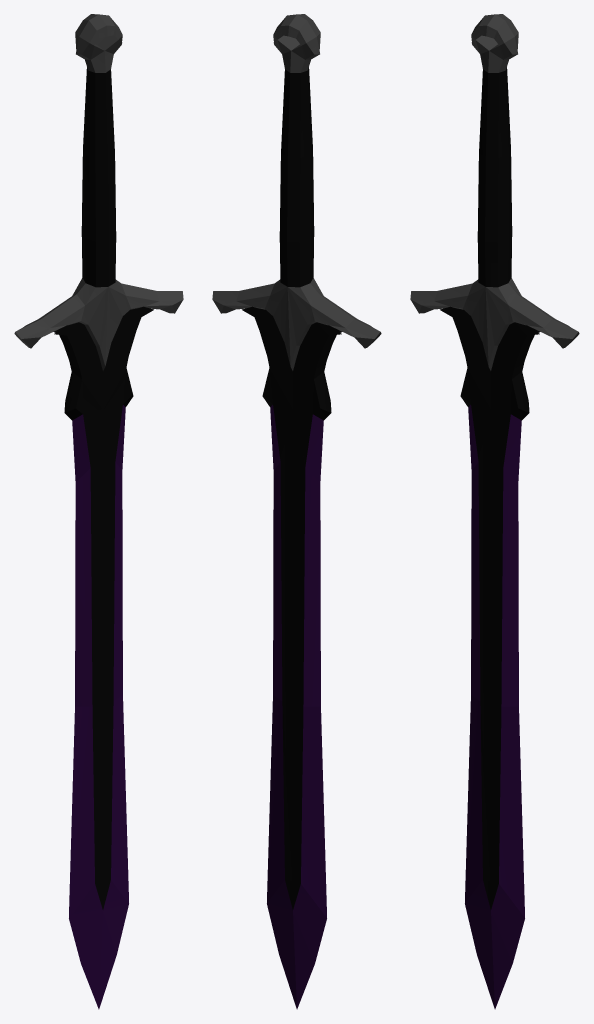
Rendered from knightSword.fbx.
3 views of the same model, side by side, from view 1: azimuth 30°, elevation 25°; view 2: azimuth 150°, elevation 25°; view 3: azimuth 330°, elevation 25° (orthographic).
Parts seen in each view (by area): view 1: DK_sword; view 2: DK_sword; view 3: DK_sword.
Part boxes in pixels (x1=…): DK_sword: x1=14, y1=14, x2=183, y2=1009; DK_sword: x1=212, y1=14, x2=381, y2=1009; DK_sword: x1=410, y1=14, x2=579, y2=1009.
Bounding box in the file's own units: 51.24 × 291 × 10.68.
1 material, 1 textured.
